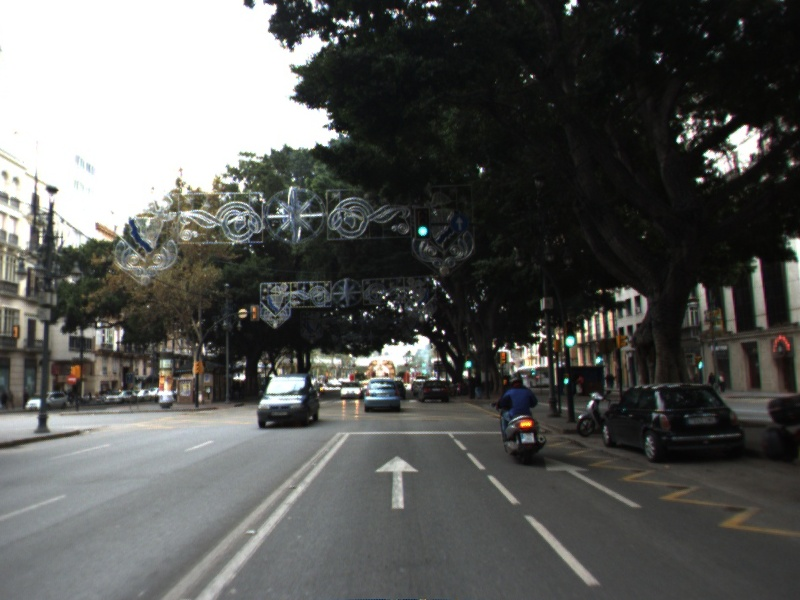STRAIGHT: (541, 454, 645, 510), (372, 453, 422, 511)
